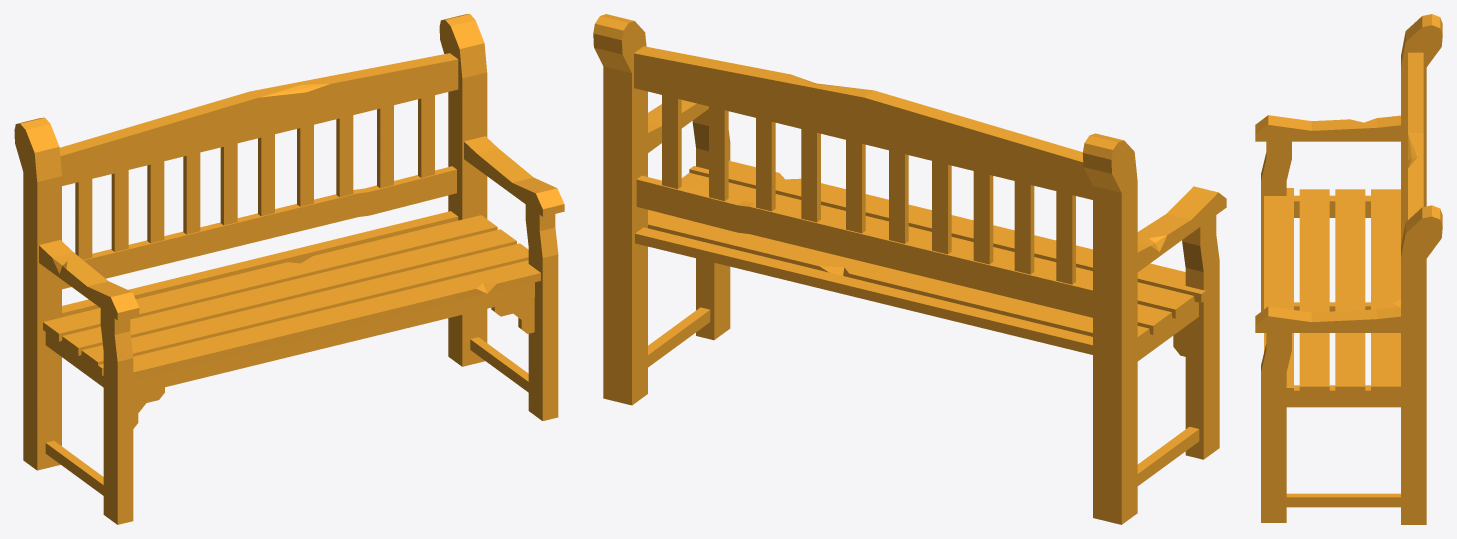
Rendered from SM_Bench_Garden_Wooden_A.fbx.
3 views of the same model, side by side, from view 1: azimuth 30°, elevation 25°; view 2: azimuth 150°, elevation 25°; view 3: azimuth 270°, elevation 25° (orthographic). The views are drawn at different scales.
Visible parts, largest first — view 1: bench-garden-wooden-a; view 2: bench-garden-wooden-a; view 3: bench-garden-wooden-a.
Boxes of the visible parts, <box> form: bench-garden-wooden-a: <box>14,14,564,524</box>; bench-garden-wooden-a: <box>593,14,1226,524</box>; bench-garden-wooden-a: <box>1255,14,1442,524</box>.
Bounding box in the file's own units: 1.6 × 1.14 × 0.6264.
